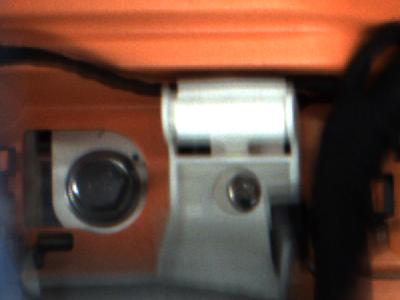nut_b: (63, 146, 140, 229)
